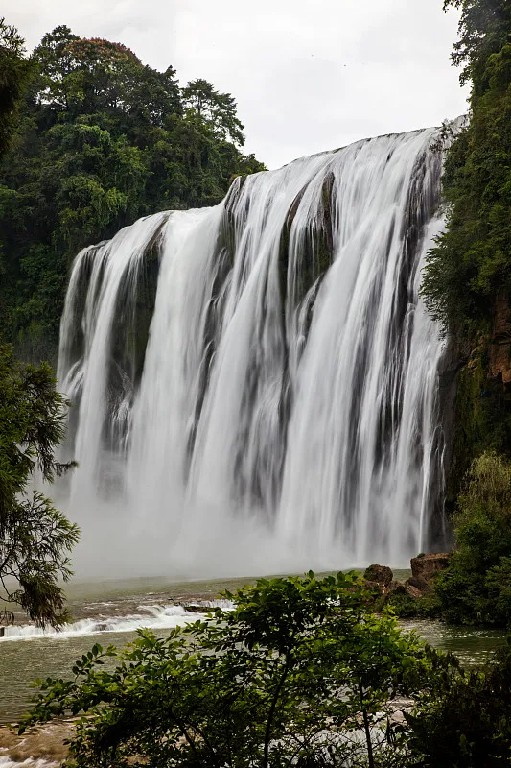Huangguoshu: (58, 117, 452, 571)
